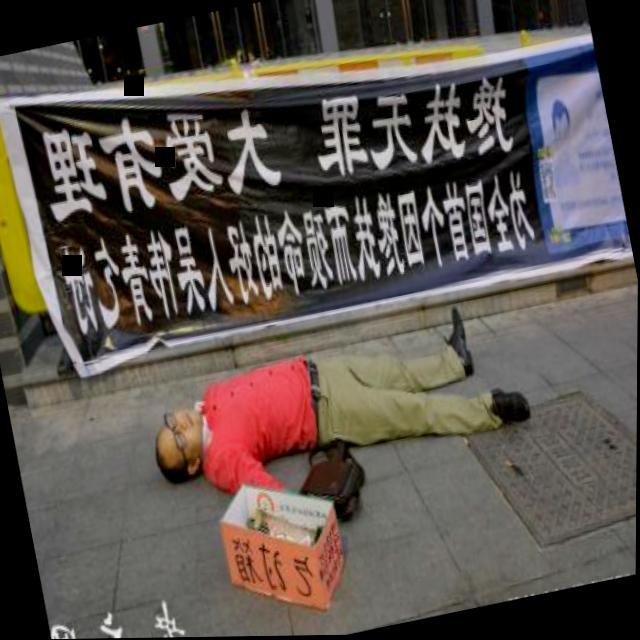Fall-Detected: (136, 287, 533, 523)
